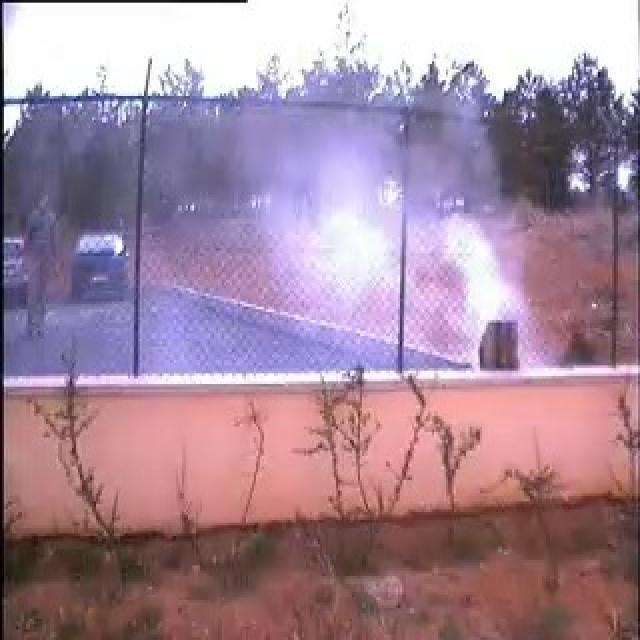Smoke: (245, 91, 534, 372)
